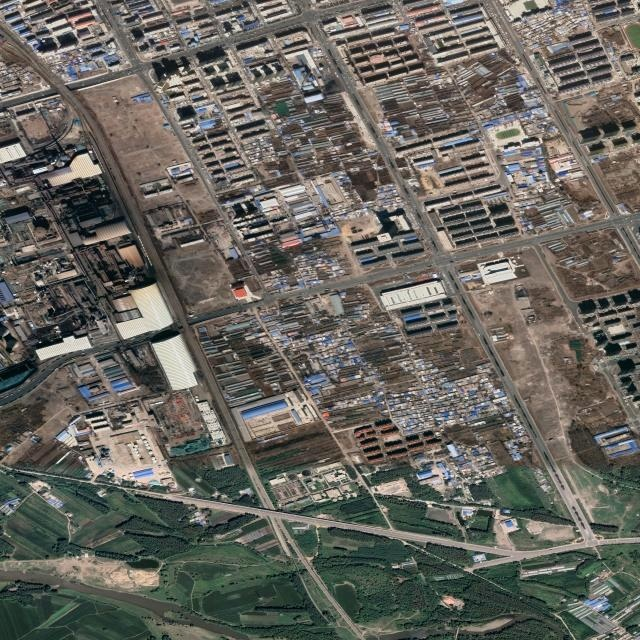coal_fired_power_plant: (0, 135, 175, 360)
